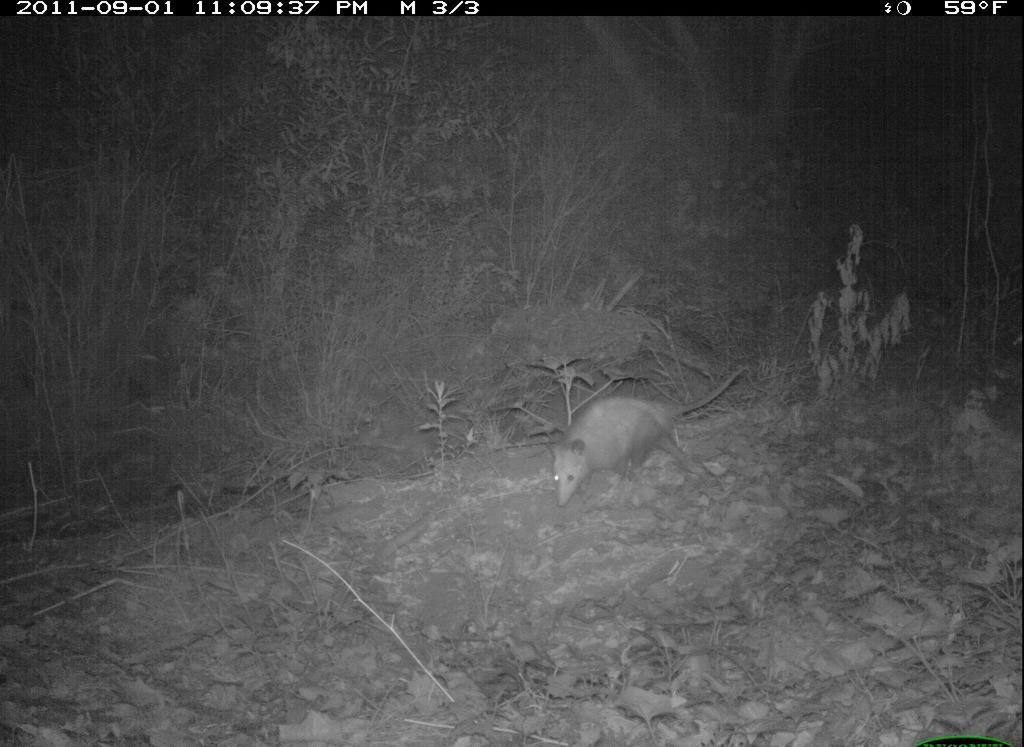opossum: (545, 354, 769, 518)
